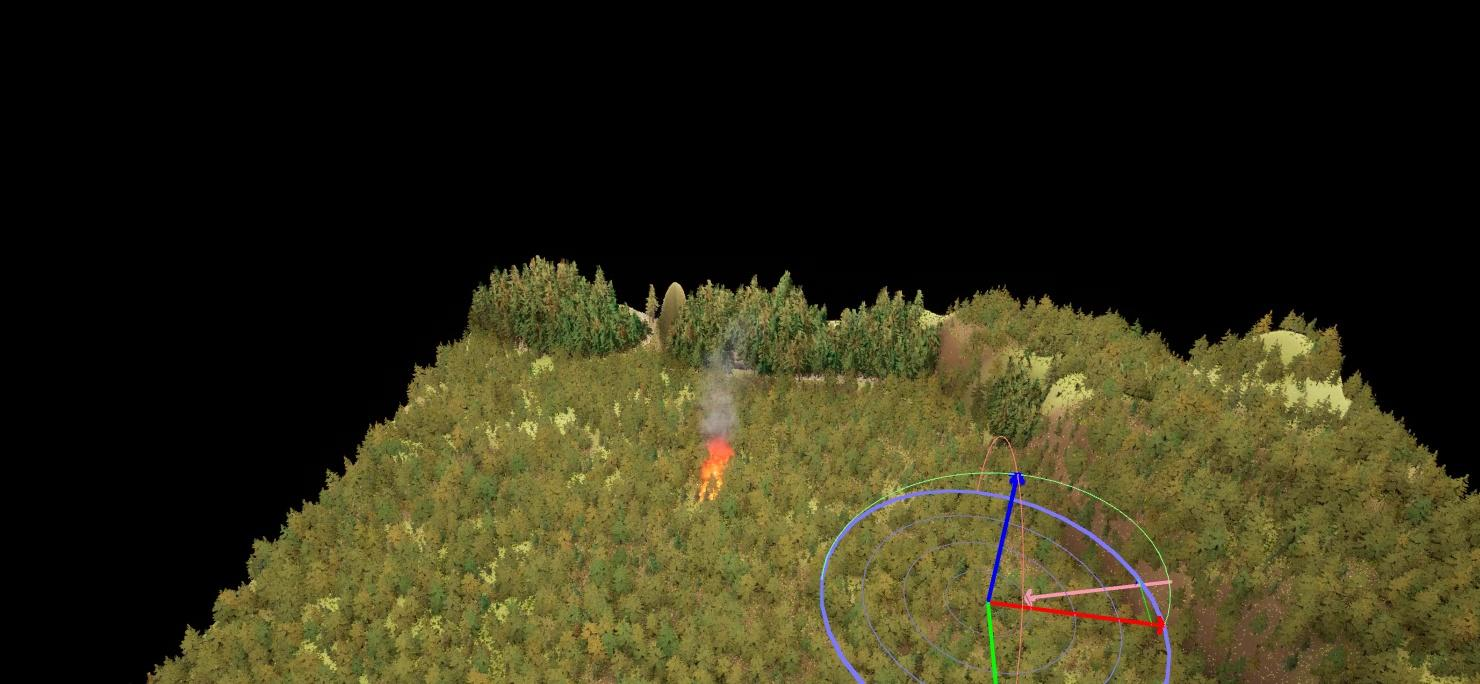fire: (695, 442, 731, 509)
smoke: (700, 334, 747, 442)
